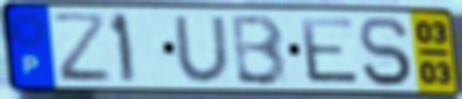1: (105, 10, 140, 86)
B: (230, 11, 290, 88)
E: (297, 15, 363, 86)
S: (357, 14, 416, 89)
U: (171, 14, 234, 85)
Z: (48, 11, 116, 85)
